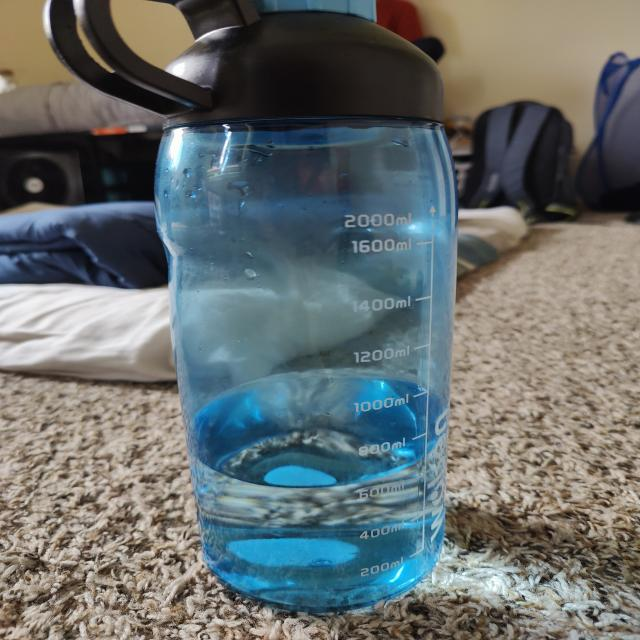bottle: (30, 1, 472, 610)
